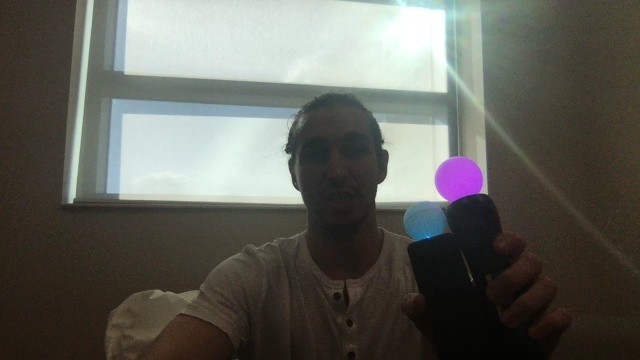wand: (436, 157, 484, 202), (403, 201, 447, 241)
